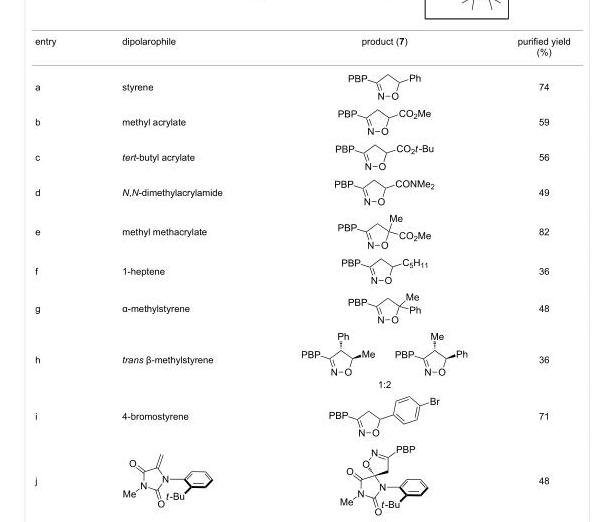table: (34, 35, 569, 485)
table column: (88, 35, 291, 485), (291, 35, 461, 485), (461, 35, 569, 485), (34, 35, 88, 485)
table row: (34, 333, 569, 399), (34, 399, 569, 447), (34, 289, 569, 333), (34, 211, 569, 250), (34, 250, 569, 289), (34, 447, 569, 485), (34, 174, 569, 211), (34, 138, 569, 174), (34, 68, 569, 103), (34, 103, 569, 138), (34, 35, 569, 68)
